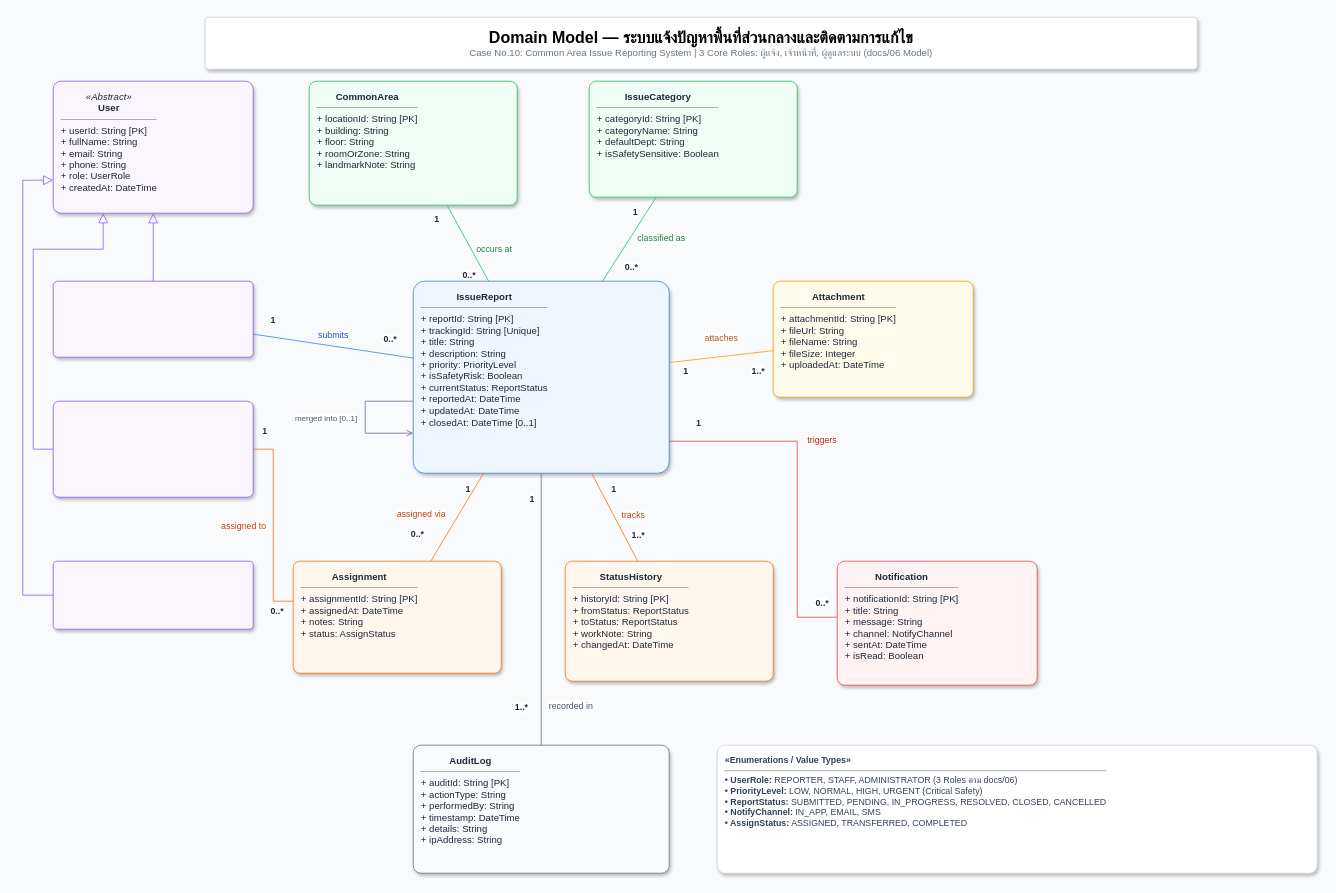
This 1336x893 diagram has some shape labels left out. The shapes that lost their labels are listed below. From the top down, each one's centre as x and y in pixels, then its label:
At [153,320]: "Reporter (ผู้แจ้ง) + studentOrStaffId: String + facultyOrDept: String".
At [153,450]: "Staff (เจ้าหน้าที่) + staffCode: String + department: String + specialty: String".
At [153,596]: "Administrator (ผู้ดูแลระบบ) + adminLevel: String".
